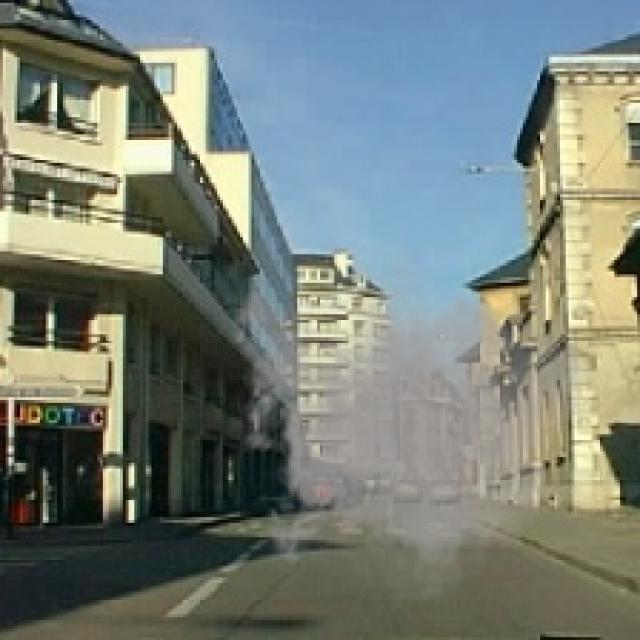smoke: (223, 231, 588, 620)
